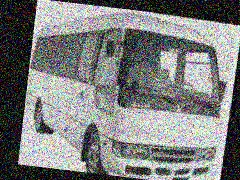bus: (18, 1, 236, 180)
